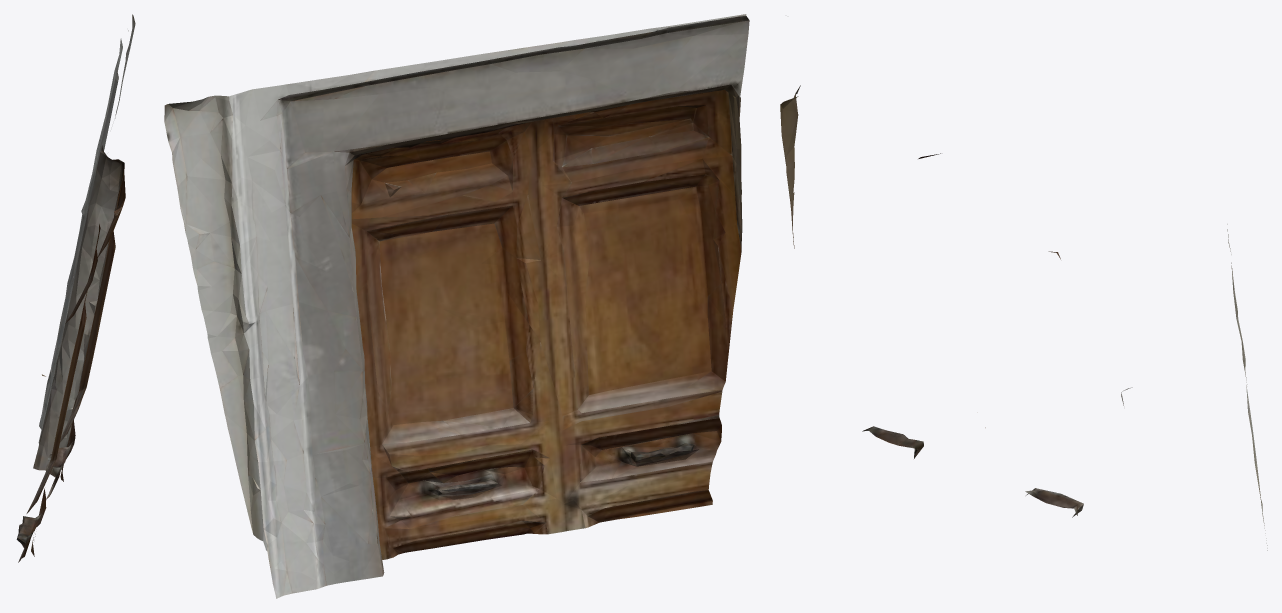
3 renders of one model, left to right at view 1: azimuth 30°, elevation 25°; view 2: azimuth 150°, elevation 25°; view 3: azimuth 270°, elevation 25°, orthographic. The views are drawn at different scales.
Size of the model in its own units: 1.29 by 1.67 by 1.58.
Materials: 3 (3 with a texture image).
